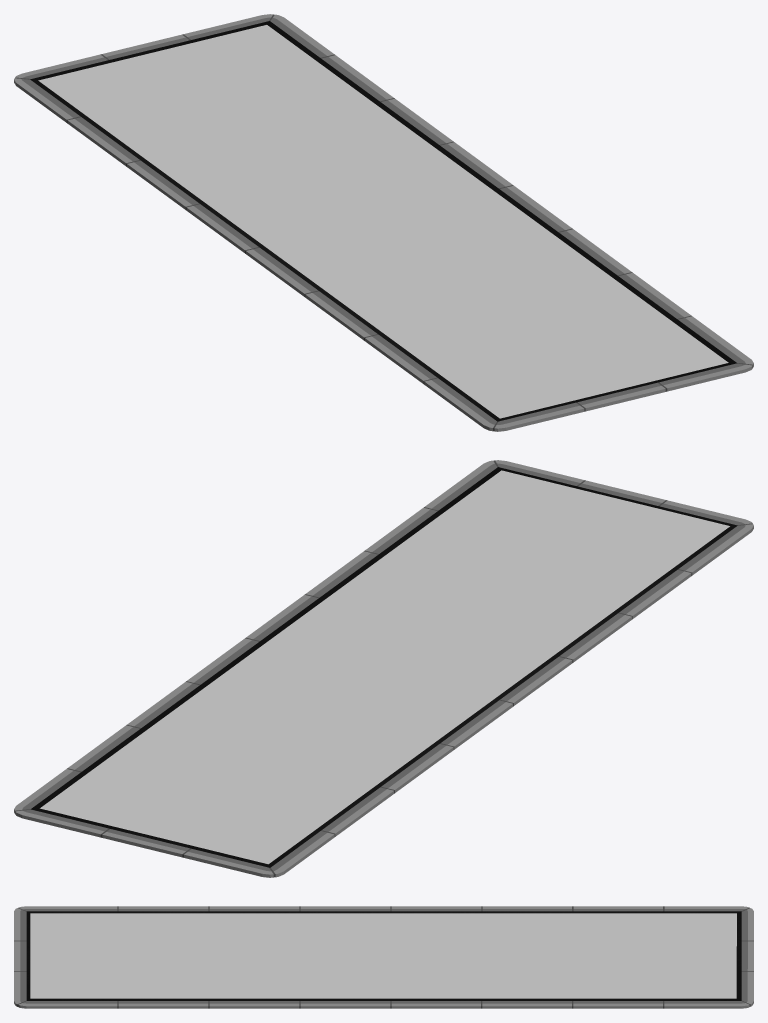
File: Road3.fbx
3 views of the same model, one above another, from view 1: azimuth 30°, elevation 25°; view 2: azimuth 150°, elevation 25°; view 3: azimuth 270°, elevation 25° (orthographic). The views are drawn at different scales.
Visible parts, largest first — view 1: Cube.001; view 2: Cube.001; view 3: Cube.001.
Boxes of the visible parts, x1,y1,x2,y2 form: Cube.001: (14, 14, 753, 431); Cube.001: (14, 460, 753, 877); Cube.001: (14, 906, 753, 1008).
Size of the model in its own units: 431 by 5 by 1349.
